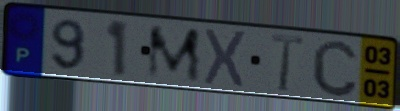1: (104, 18, 129, 79)
9: (47, 17, 92, 72)
C: (310, 37, 360, 99)
M: (145, 24, 203, 84)
T: (269, 32, 307, 94)
X: (201, 26, 249, 91)
